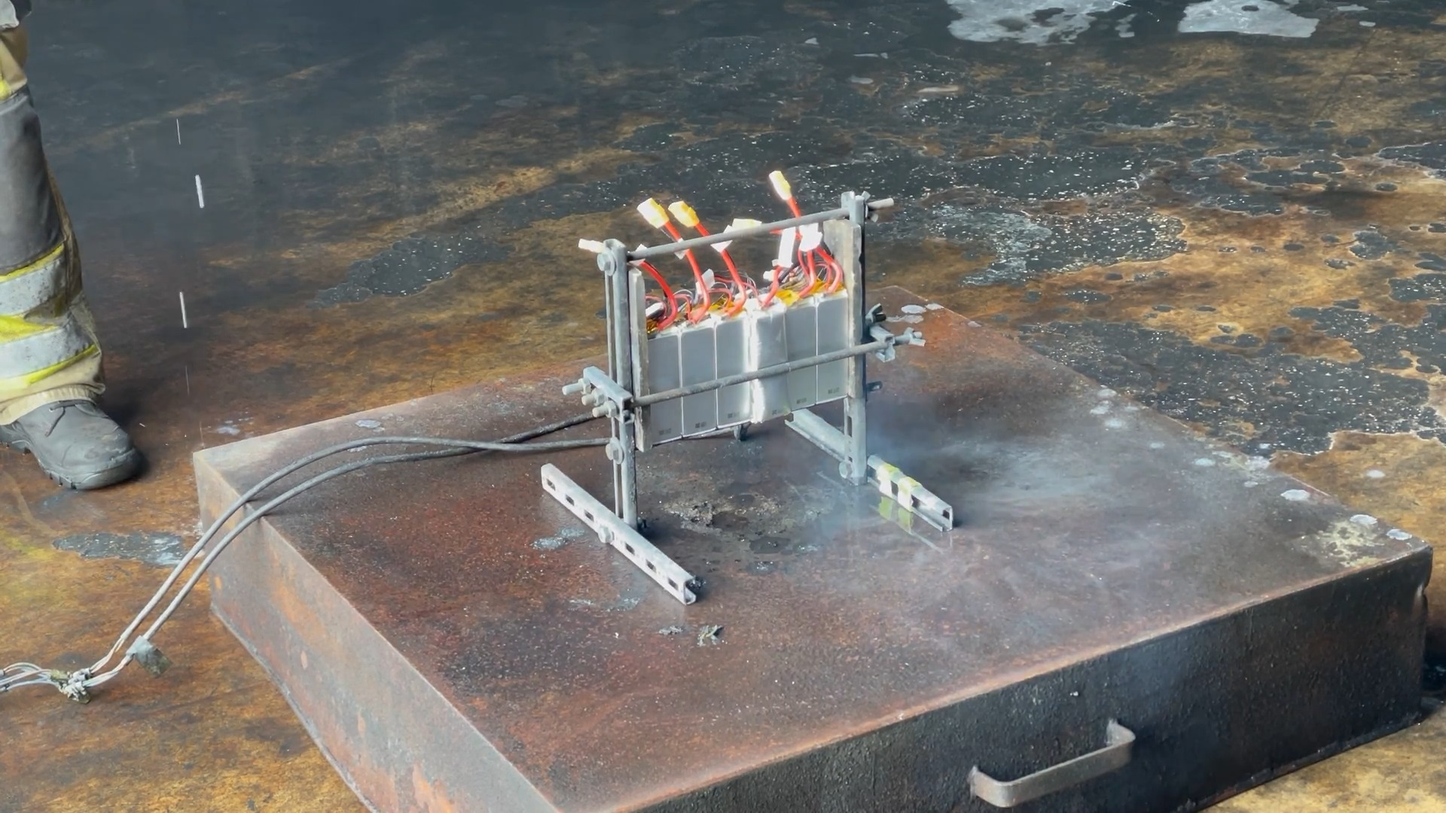smoke: (733, 368, 1302, 579)
